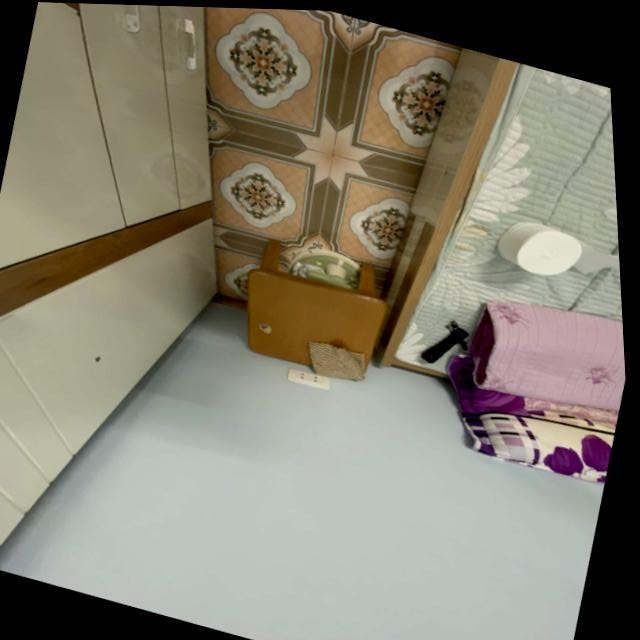outlet: (285, 367, 331, 392)
